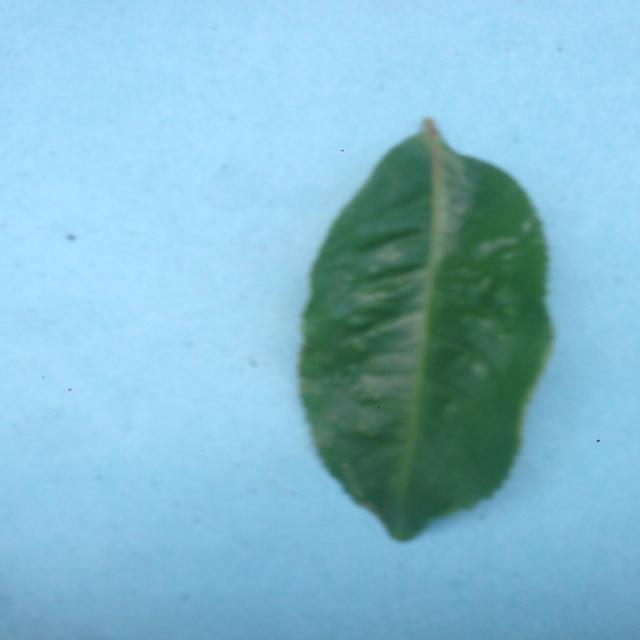Healthy: (256, 107, 593, 581)
